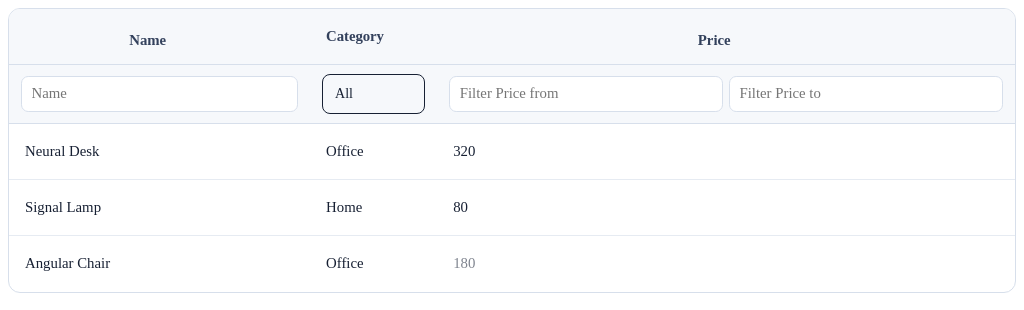
Scenario: TableComponent › edits a cell with an immutable draft and completes with Enter
Click the cell "Neural Desk" at {"x": 160, "y": 152}, box [9,124,310,180]
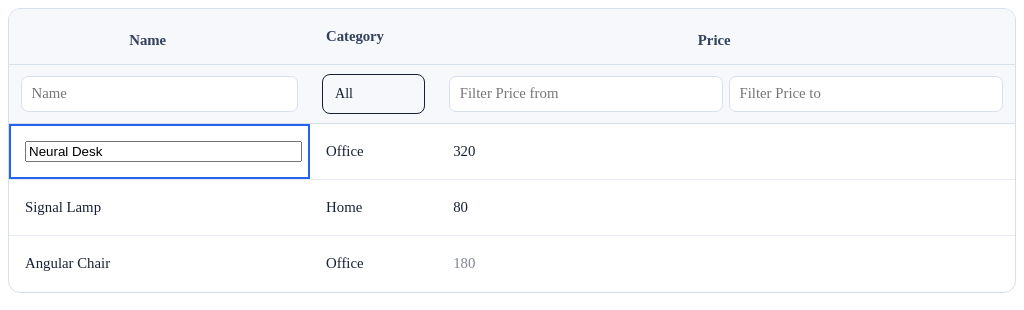
Replace the text in the field with class "name-editor" with "Neural Workstation" at {"x": 164, "y": 151}, box [25,141,302,162]
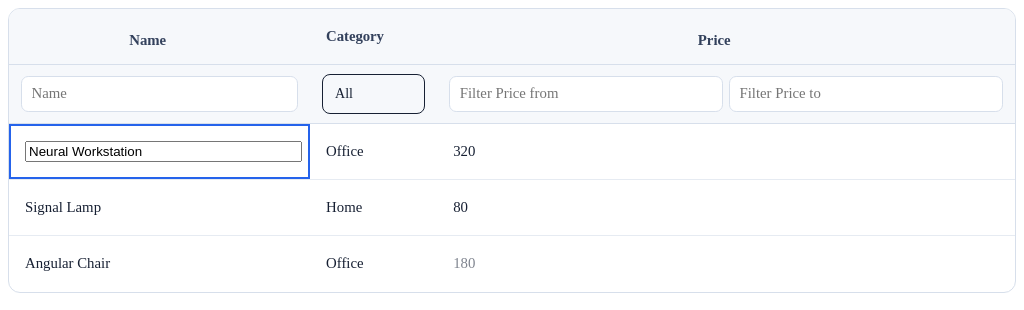
Press Enter in the field with class "name-editor", box [25,141,302,162]
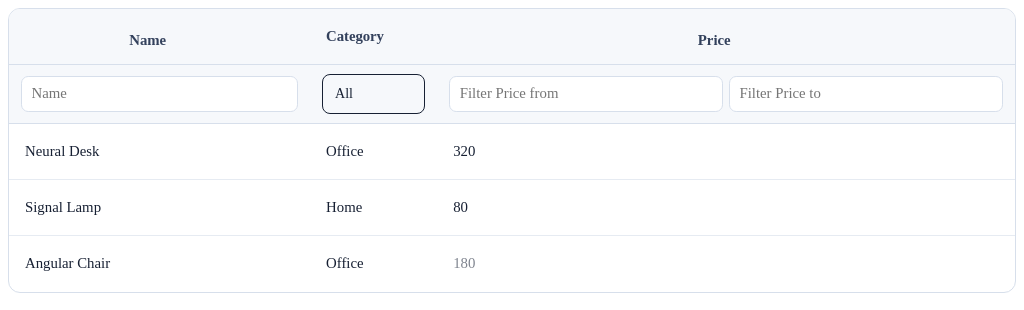
Expected: the cell "Neural Desk" is shown, [9,124,310,180]
Expected: the field with class "name-editor" is gone
